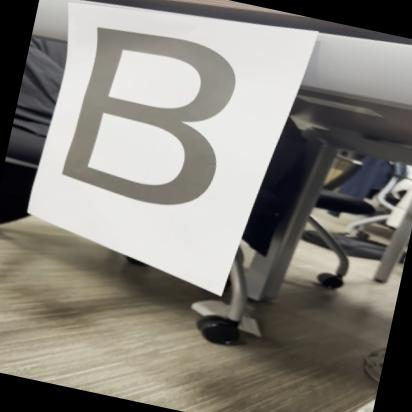seat: (35, 4, 267, 236)
